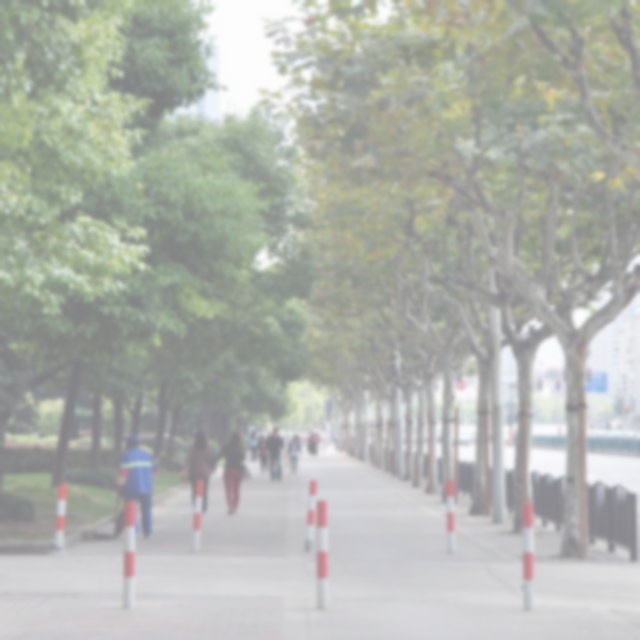pessoa: (113, 434, 161, 540), (211, 430, 252, 516), (178, 428, 212, 515), (264, 427, 286, 482), (252, 434, 270, 476), (286, 434, 304, 475), (247, 428, 260, 462), (208, 443, 218, 479), (305, 432, 315, 454), (256, 429, 266, 437), (313, 427, 320, 438), (506, 428, 512, 440), (558, 426, 562, 444), (470, 431, 477, 441), (424, 429, 428, 445), (266, 430, 272, 440), (616, 423, 622, 433), (331, 428, 336, 438), (308, 430, 313, 440), (318, 429, 325, 436), (328, 424, 332, 436), (288, 430, 294, 438), (270, 433, 284, 436), (384, 430, 386, 445), (514, 428, 518, 434), (414, 438, 416, 449), (316, 432, 318, 434)
